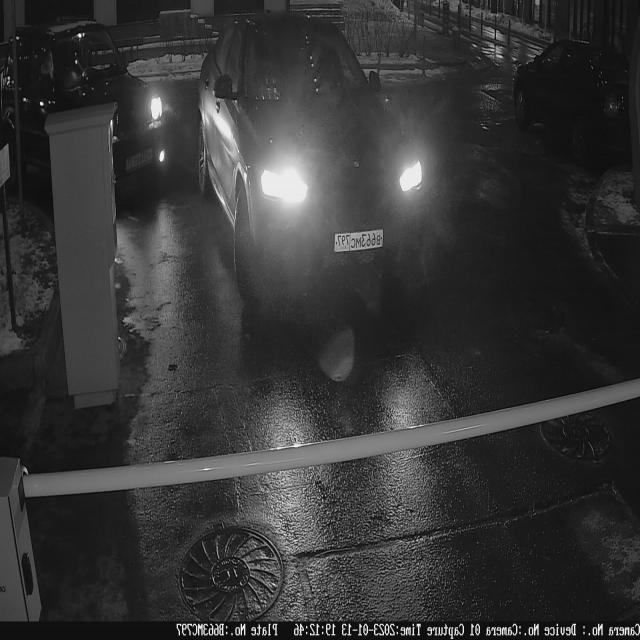car-plate-numbers: (334, 223, 387, 258)
